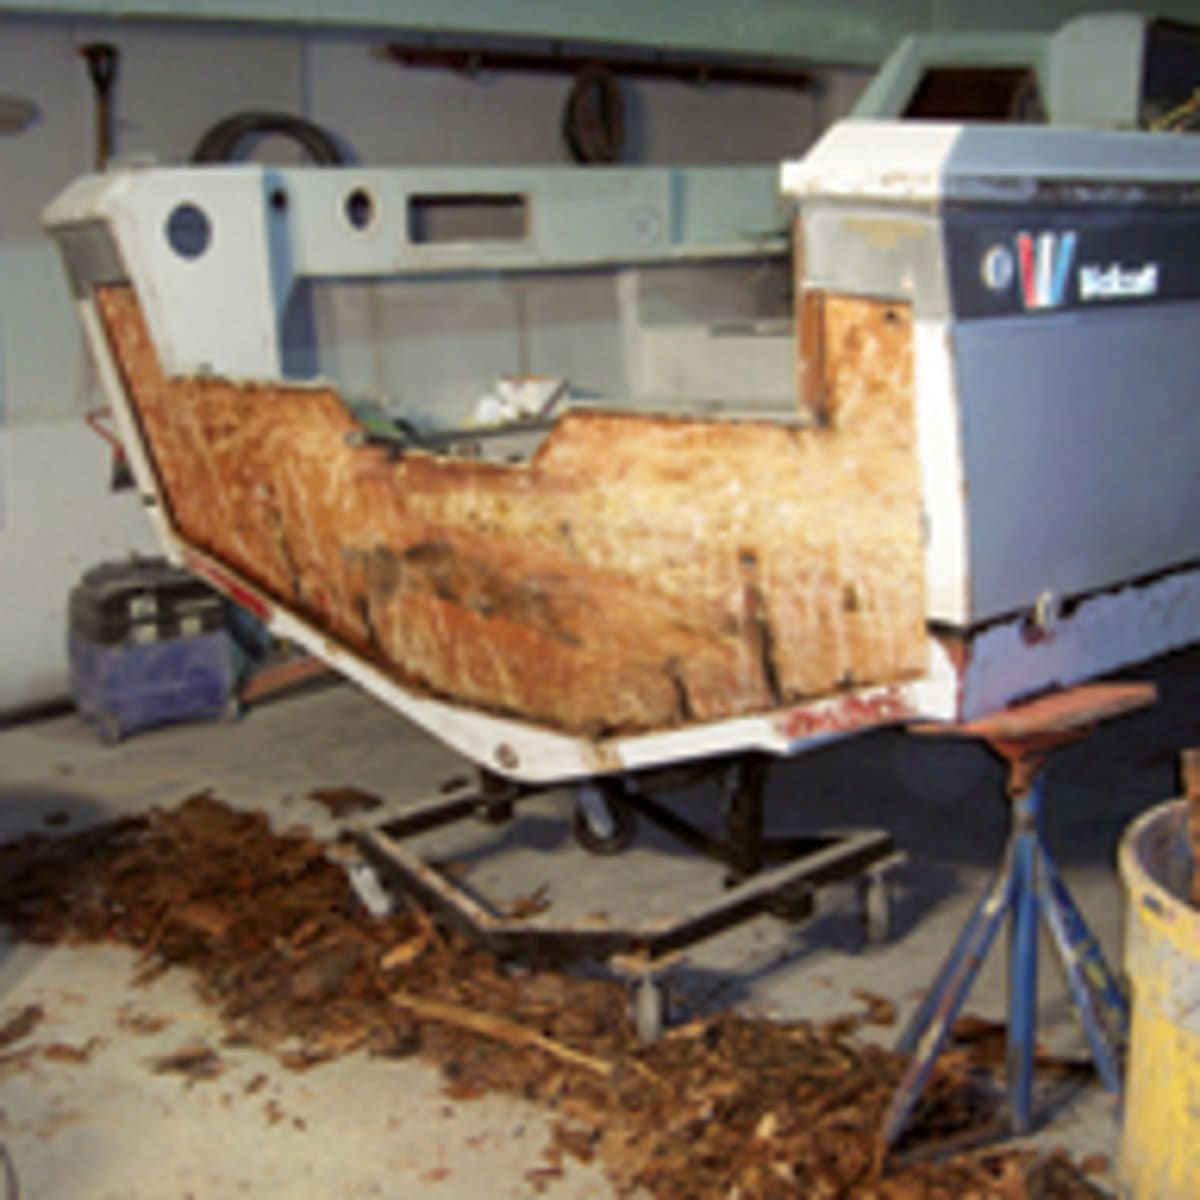rust: (451, 475, 910, 714), (137, 384, 384, 640), (155, 825, 327, 992)
